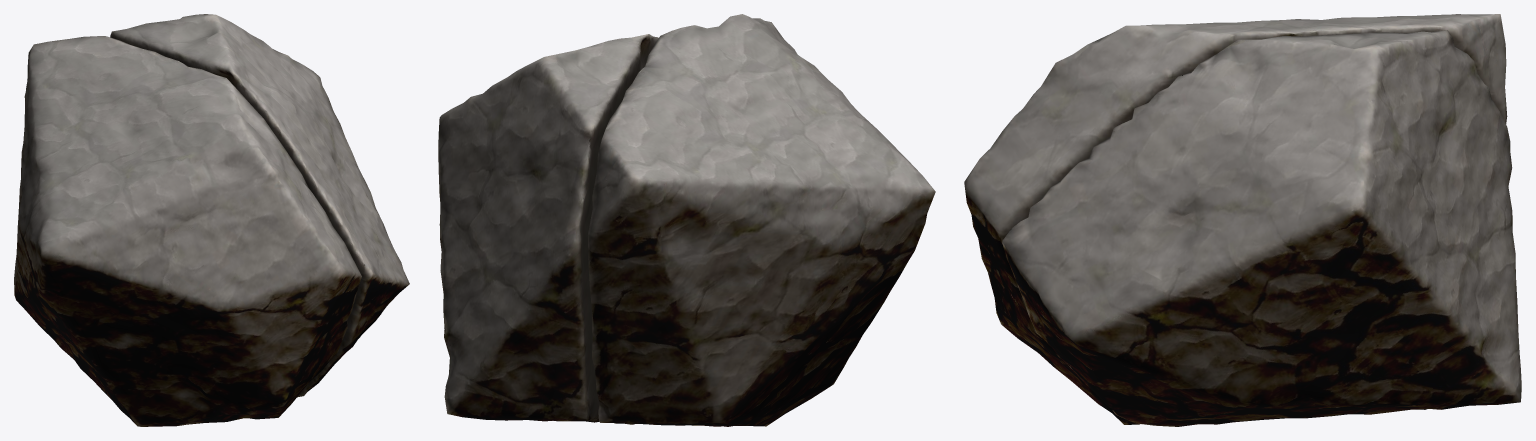
The model's file is boulder_split_c.glb.
3 renders of one model, left to right at view 1: azimuth 30°, elevation 25°; view 2: azimuth 150°, elevation 25°; view 3: azimuth 270°, elevation 25°, orthographic. The views are drawn at different scales.
Parts seen in each view (by area): view 1: rock0, rock1; view 2: rock0, rock1; view 3: rock1, rock0.
Part boxes in pixels (x1=…): rock0: x1=14, y1=36, x2=361, y2=426; rock1: x1=110, y1=14, x2=409, y2=397; rock0: x1=588, y1=14, x2=935, y2=426; rock1: x1=438, y1=34, x2=658, y2=422; rock1: x1=1002, y1=30, x2=1521, y2=426; rock0: x1=964, y1=14, x2=1507, y2=424.
Size of the model in its own units: 1.17 by 1.03 by 1.28.
Materials: 2 (2 with a texture image).
